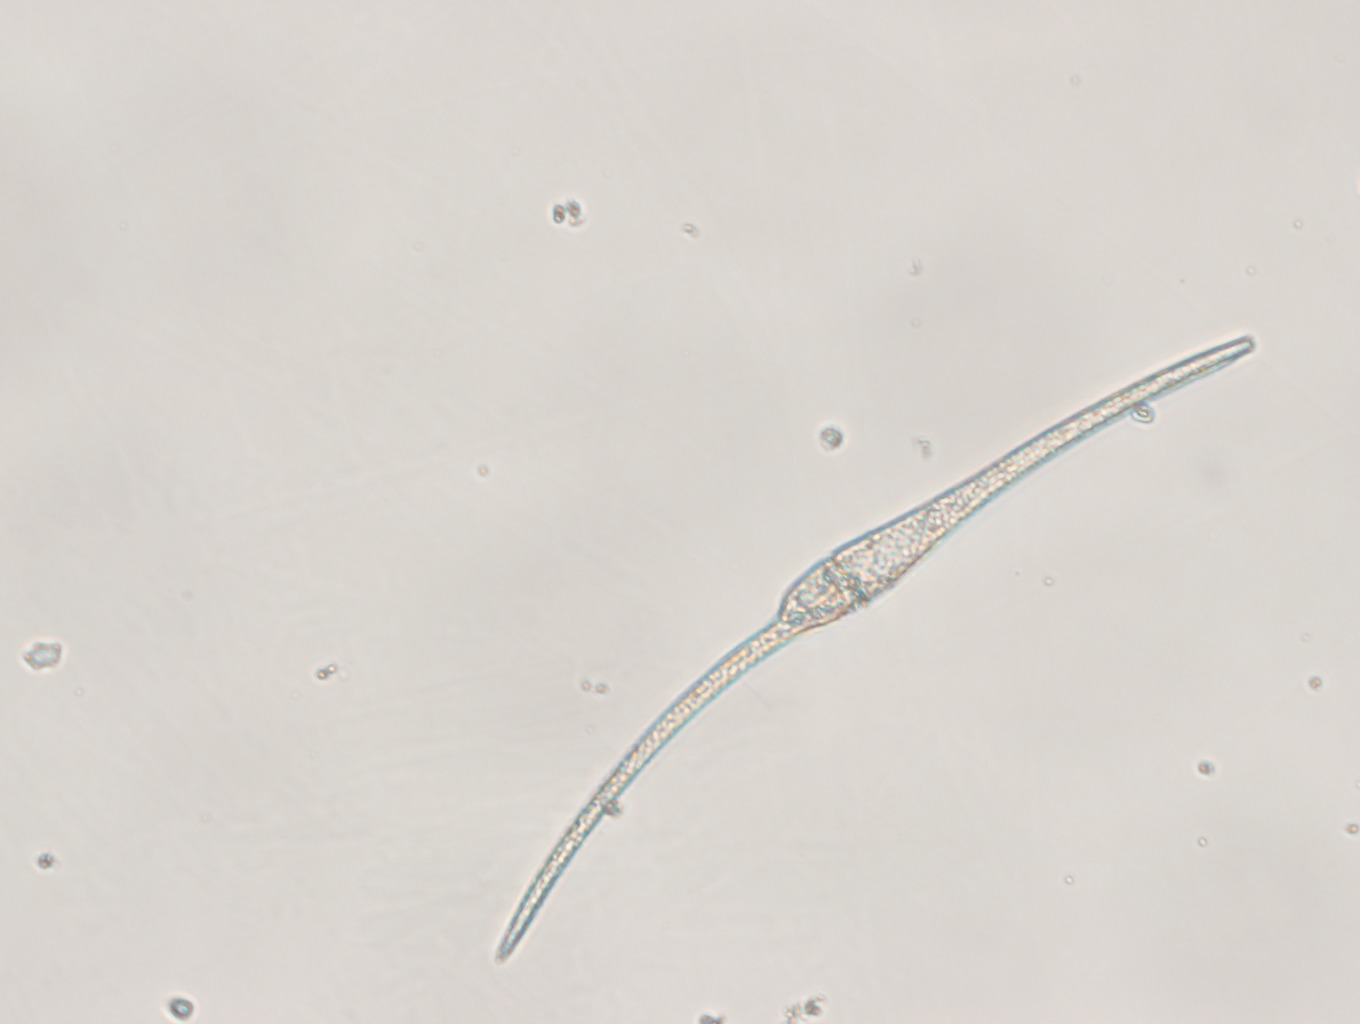ceratium fusus: (486, 328, 1265, 966)
